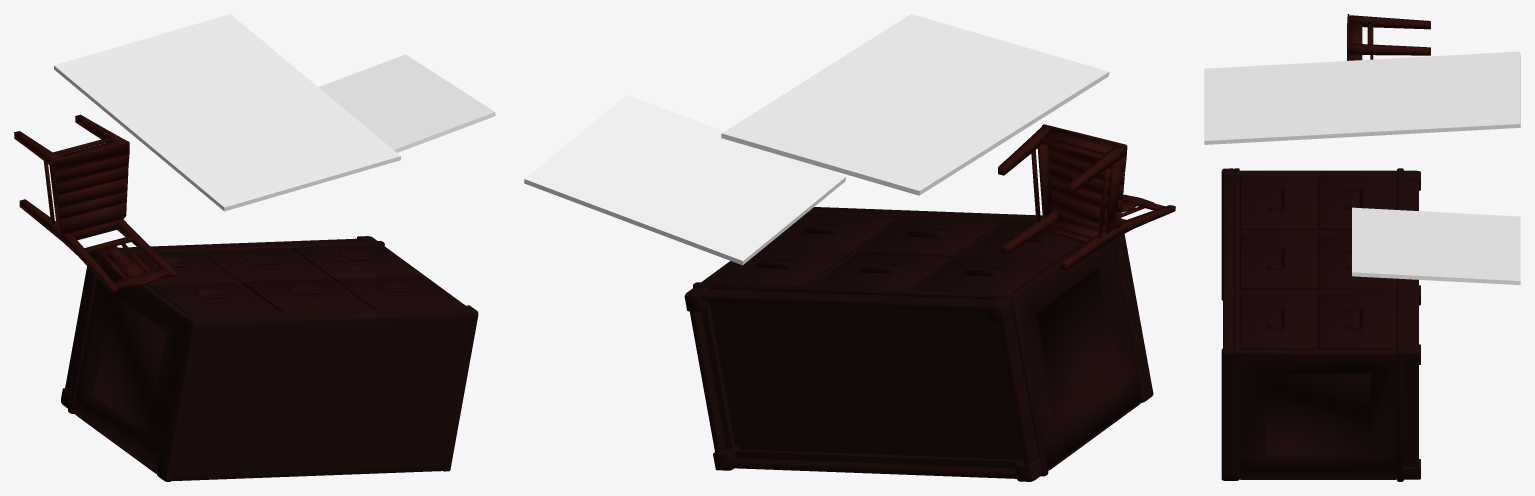
3 renders of one model, left to right at view 1: azimuth 30°, elevation 25°; view 2: azimuth 150°, elevation 25°; view 3: azimuth 270°, elevation 25°, orthographic. The views are drawn at different scales.
Visible parts, largest first — view 1: diffuse_cabinet_01, glass_door_01, diffuse_chair_02, glass_window_02; view 2: diffuse_cabinet_01, glass_door_01, glass_window_02, diffuse_chair_02; view 3: diffuse_cabinet_01, glass_door_01, glass_window_02, diffuse_chair_02.
Part boxes in pixels (x1,y1,x2,y2): diffuse_cabinet_01: [61, 236, 478, 481]; glass_door_01: [54, 14, 400, 211]; diffuse_chair_02: [14, 114, 176, 292]; glass_window_02: [318, 54, 495, 152]; diffuse_cabinet_01: [684, 207, 1153, 481]; glass_door_01: [721, 14, 1109, 195]; glass_window_02: [524, 95, 845, 265]; diffuse_chair_02: [998, 124, 1175, 270]; diffuse_cabinet_01: [1221, 168, 1420, 481]; glass_door_01: [1204, 51, 1520, 144]; glass_window_02: [1352, 207, 1520, 284]; diffuse_chair_02: [1347, 14, 1430, 60].
Size of the model in its own units: 226 by 173 by 150.
